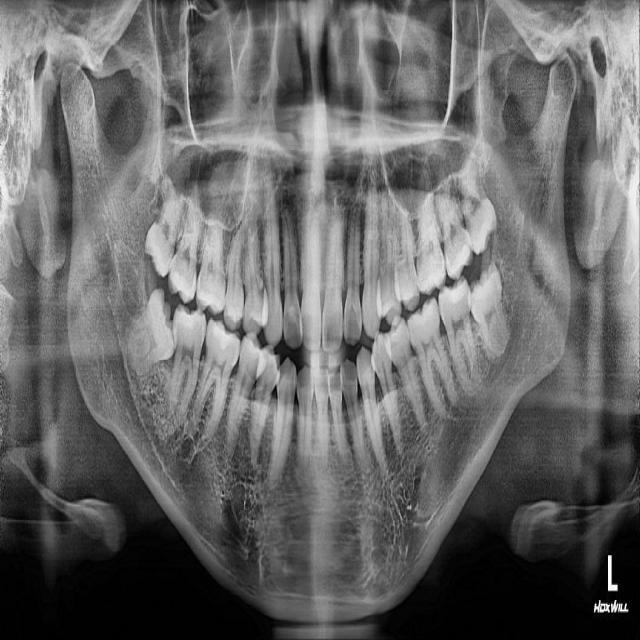impacted tooth: (122, 285, 177, 377), (468, 263, 511, 357)
